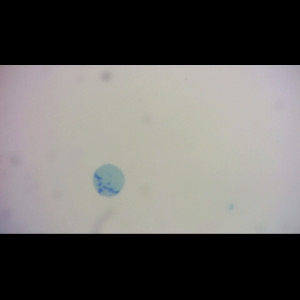aggregate reticulocyte: (92, 163, 126, 199)
